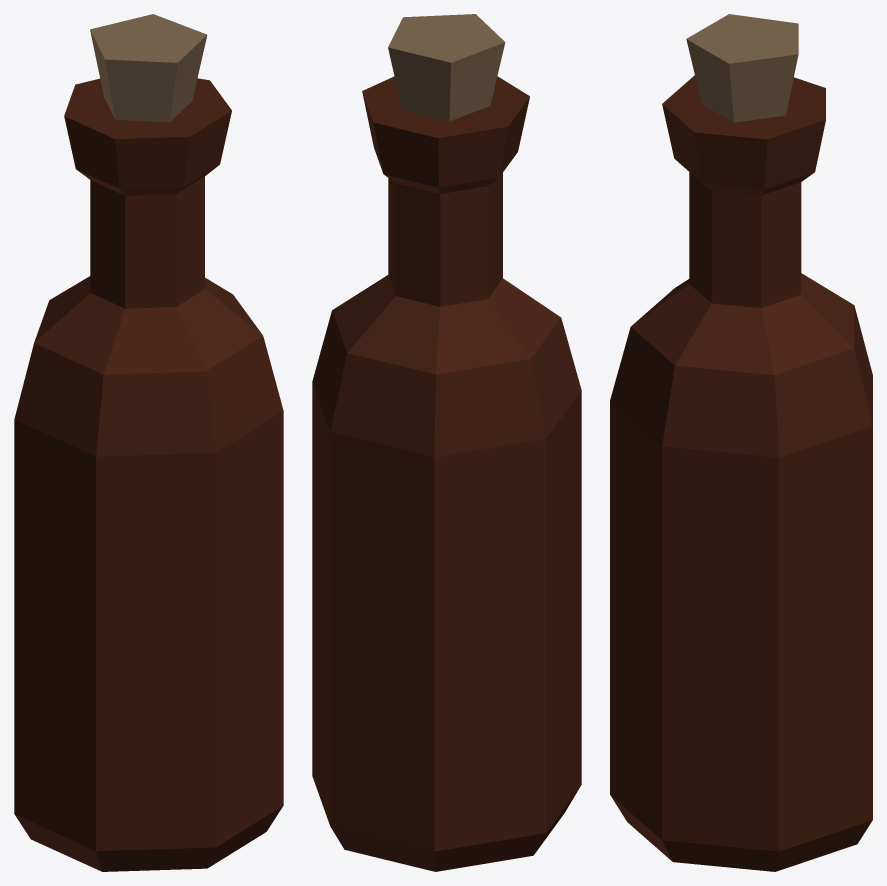
The model's file is Bottle1.fbx.
3 views of the same model, side by side, from view 1: azimuth 30°, elevation 25°; view 2: azimuth 150°, elevation 25°; view 3: azimuth 270°, elevation 25° (orthographic).
Visible parts, largest first — view 1: Bottle1; view 2: Bottle1; view 3: Bottle1.
Part boxes in pixels (bbox=[...]): Bottle1: bbox=[14, 14, 283, 871]; Bottle1: bbox=[312, 14, 581, 871]; Bottle1: bbox=[610, 14, 872, 871].
Bounding box in the file's own units: 0.1669 × 0.1627 × 0.5349.
